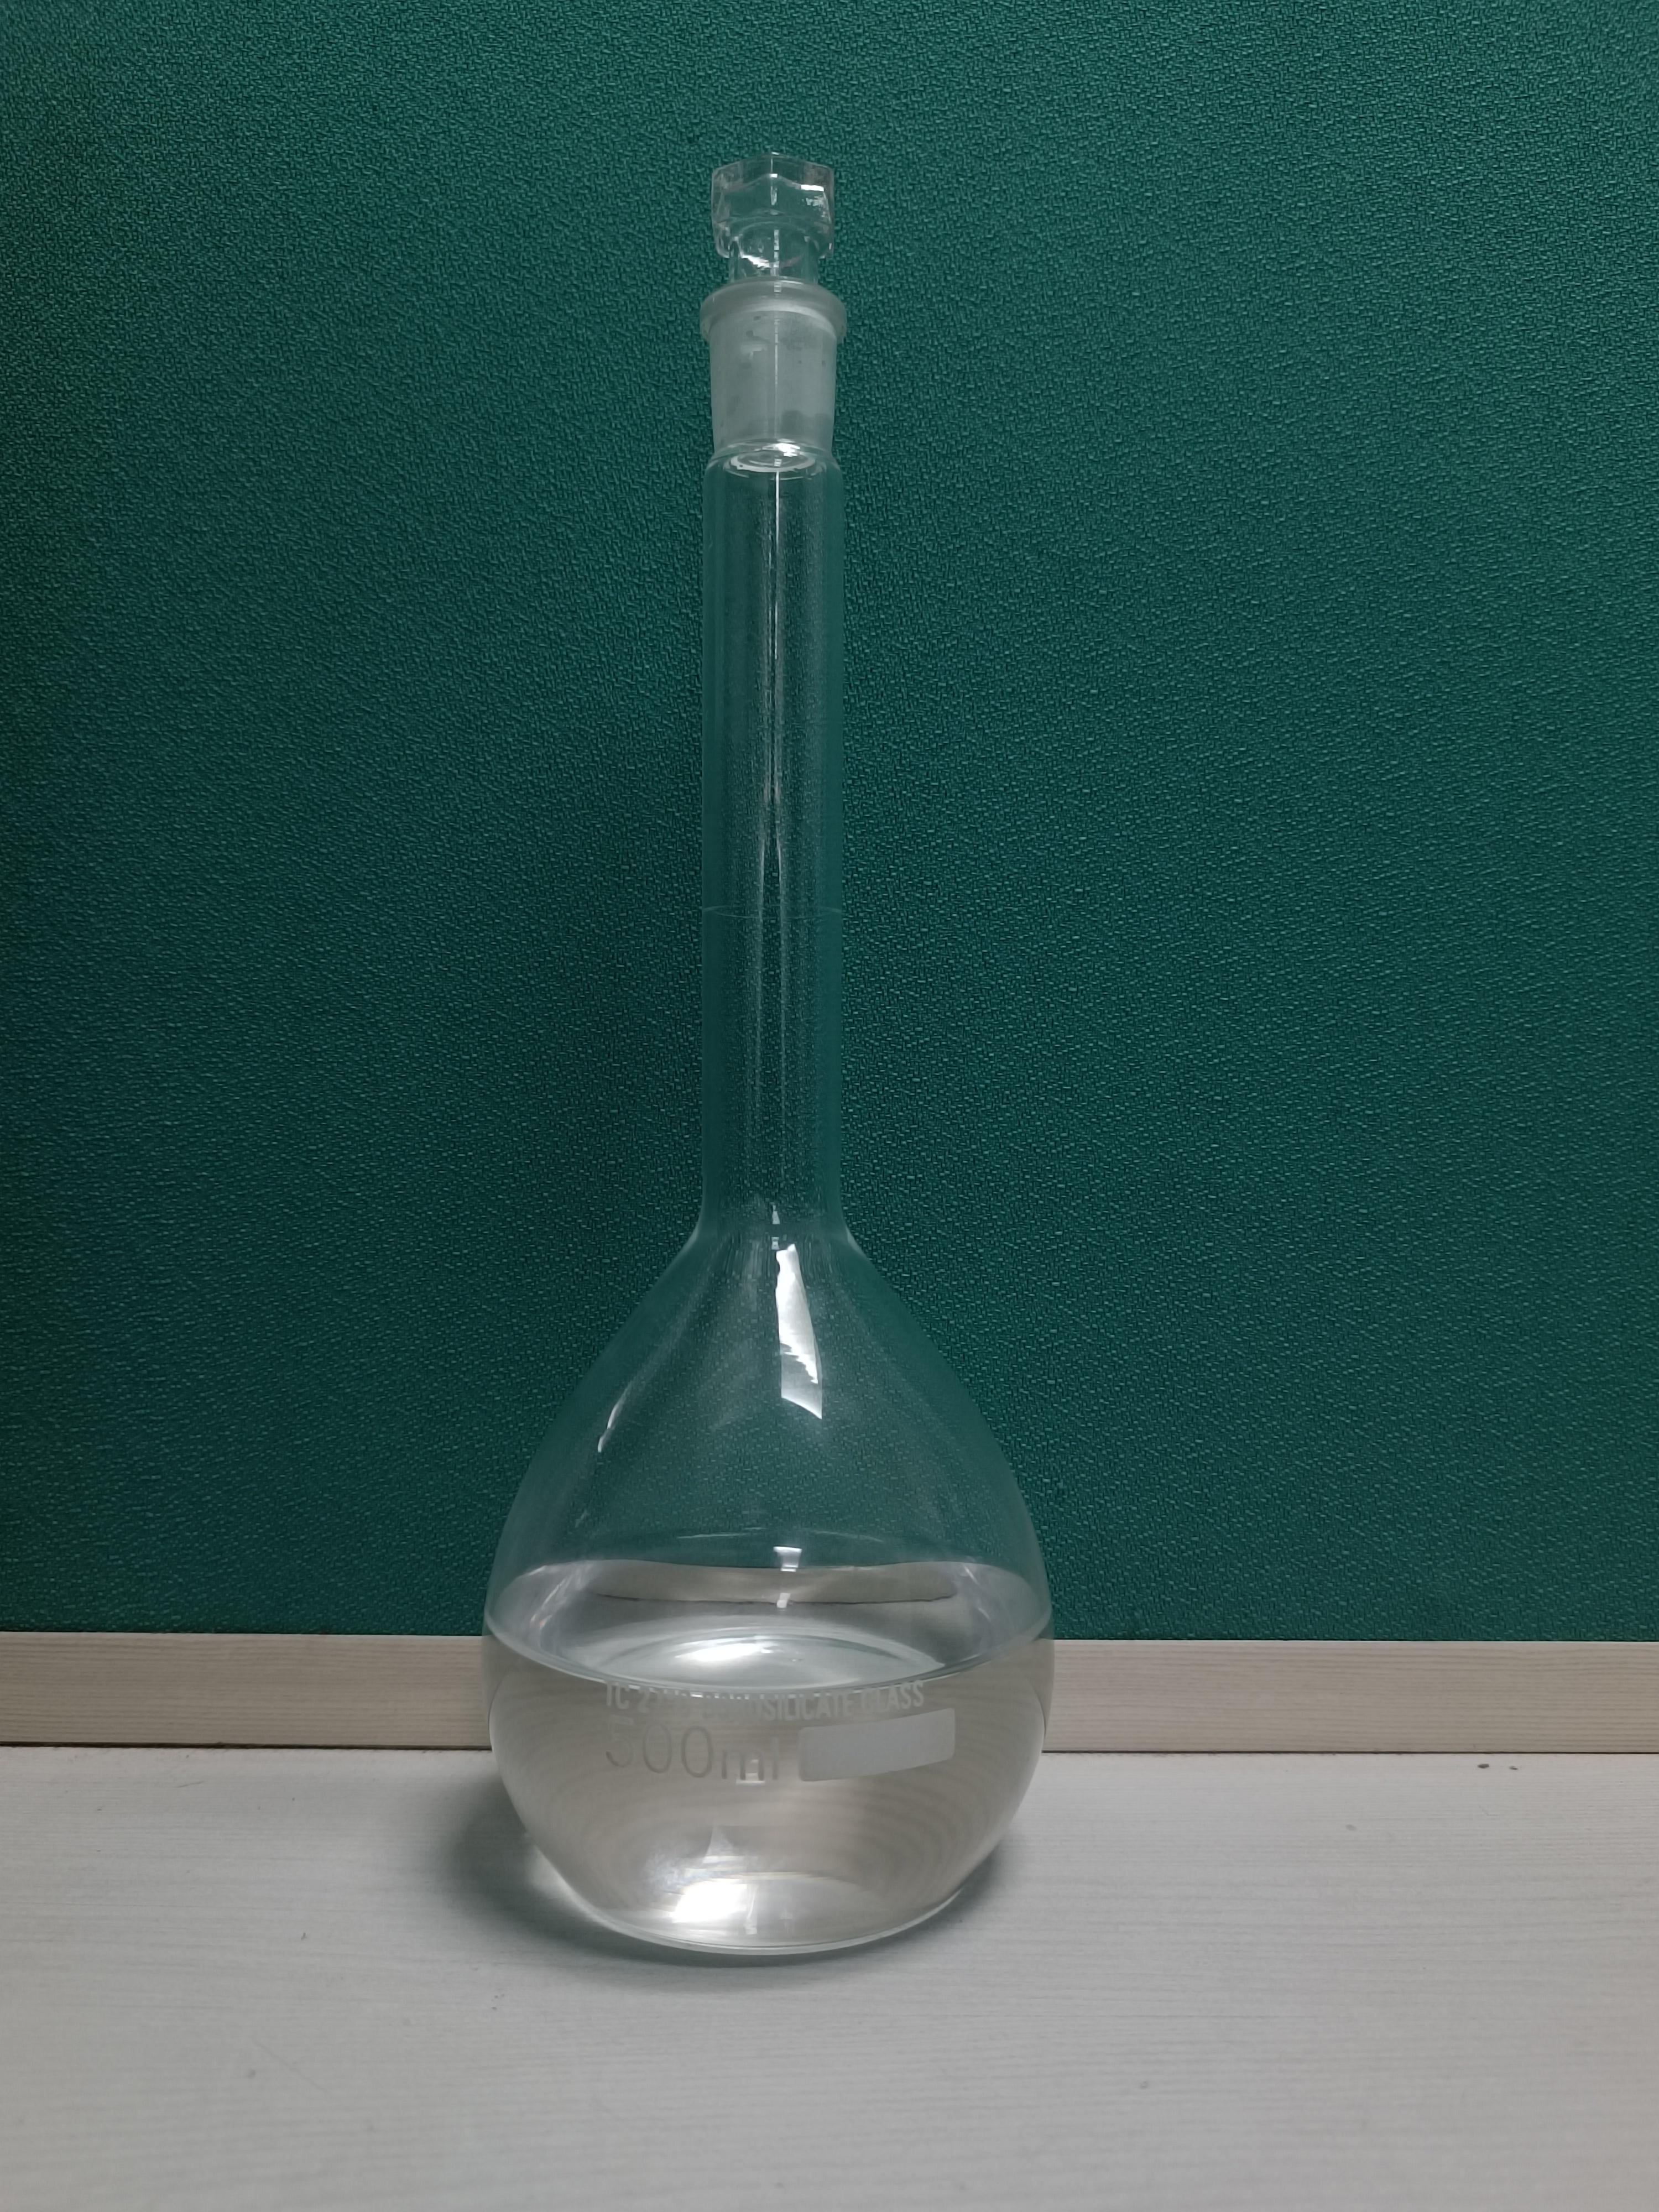Volumetric flask: (490, 113, 1086, 1959)
